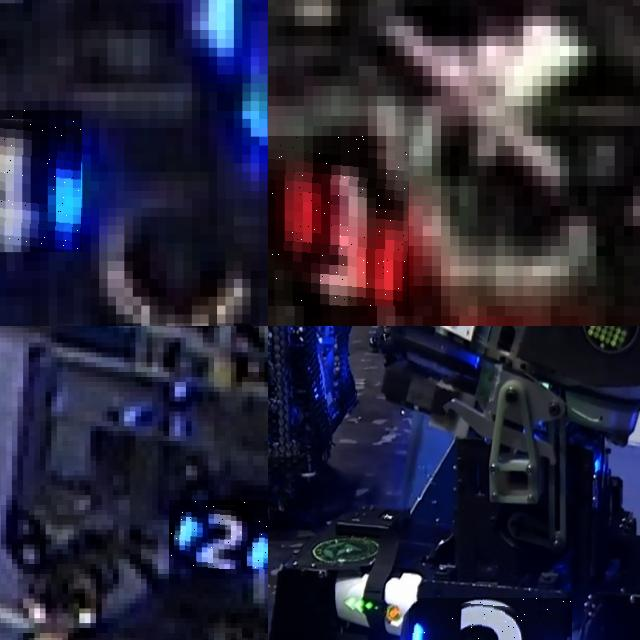B2: (169, 500, 268, 569)
B3: (409, 597, 572, 640)
B4: (0, 110, 82, 252)
R3: (268, 136, 408, 306)
